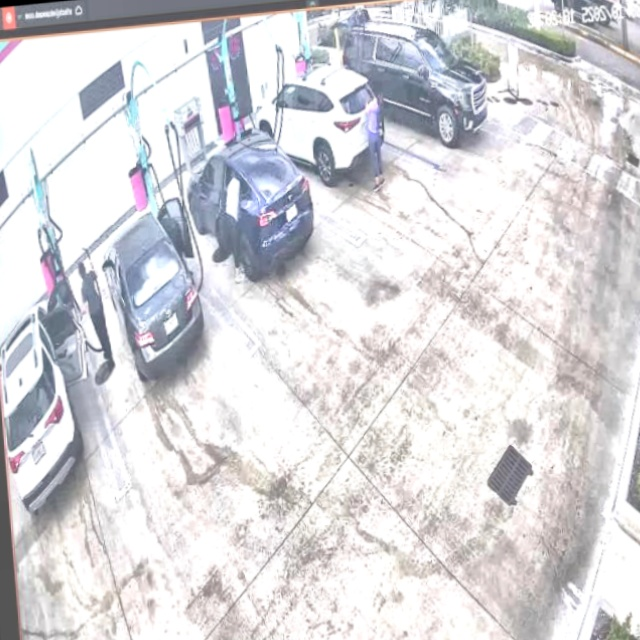Car: (184, 118, 316, 279), (99, 198, 202, 384), (253, 61, 384, 187)
